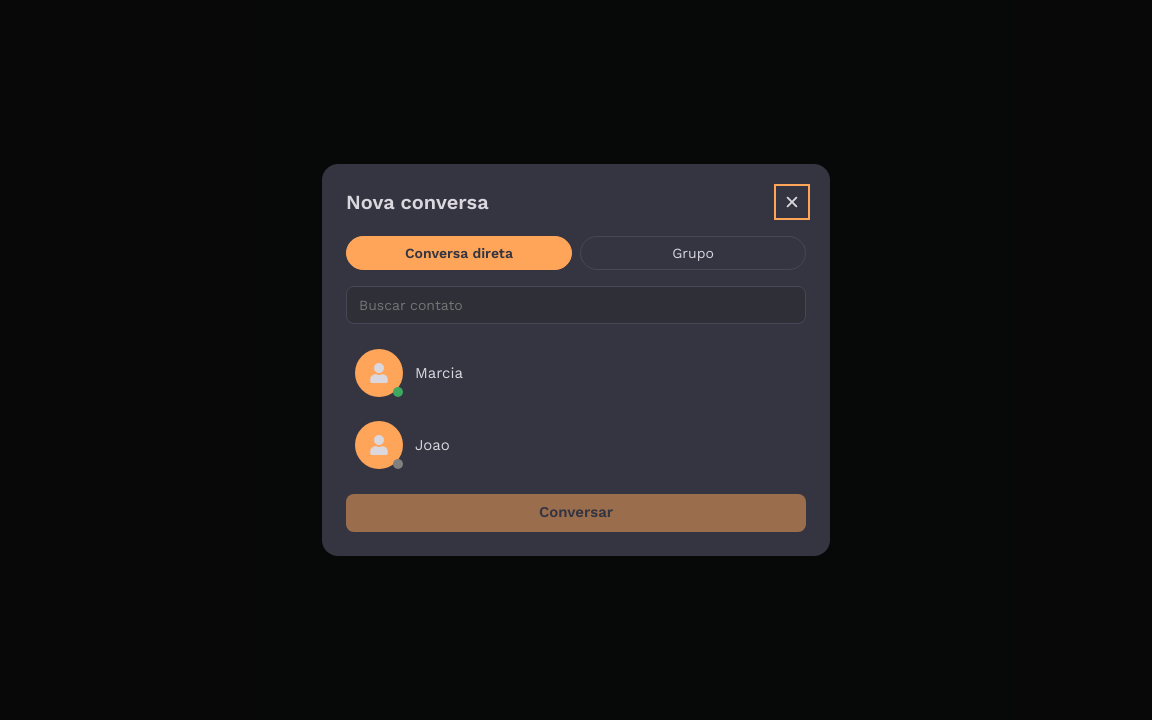
Test case: NewChatModal · criar grupo › a segunda etapa pede nome, foto e descricao
Step 1. Click the tab "Grupo" → (693, 253), box 580,236 -> 806,270
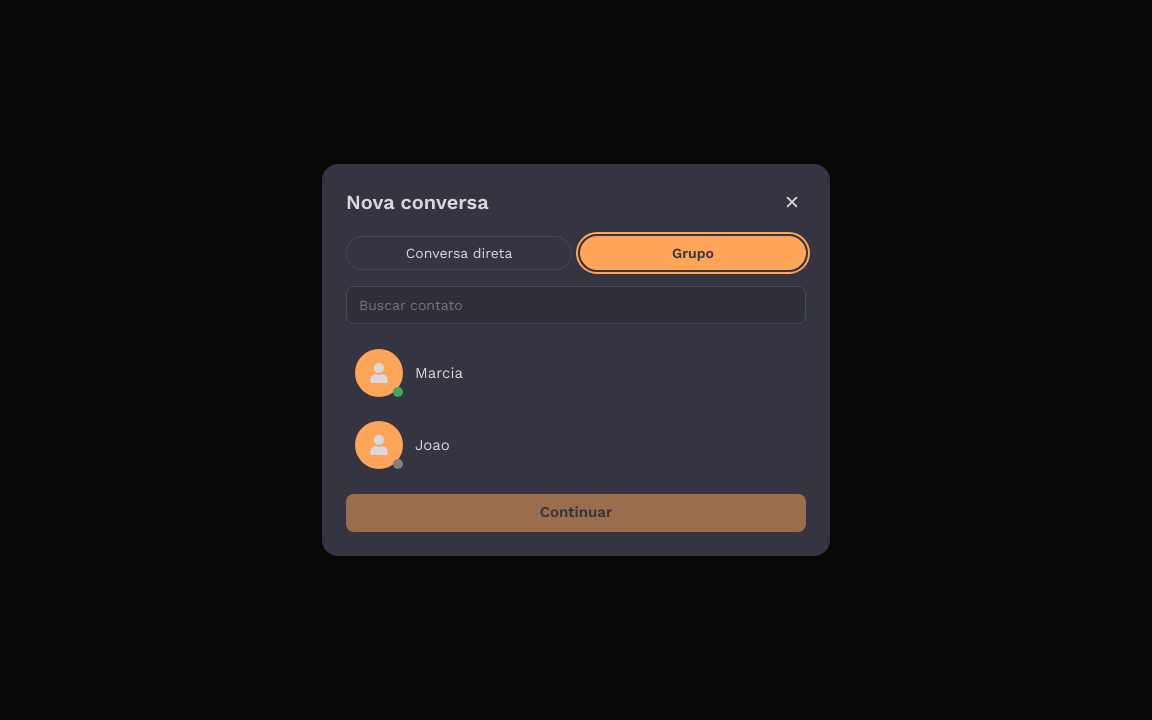
Step 2. Click the button "Marcia" → (379, 373), box 346,340 -> 806,406
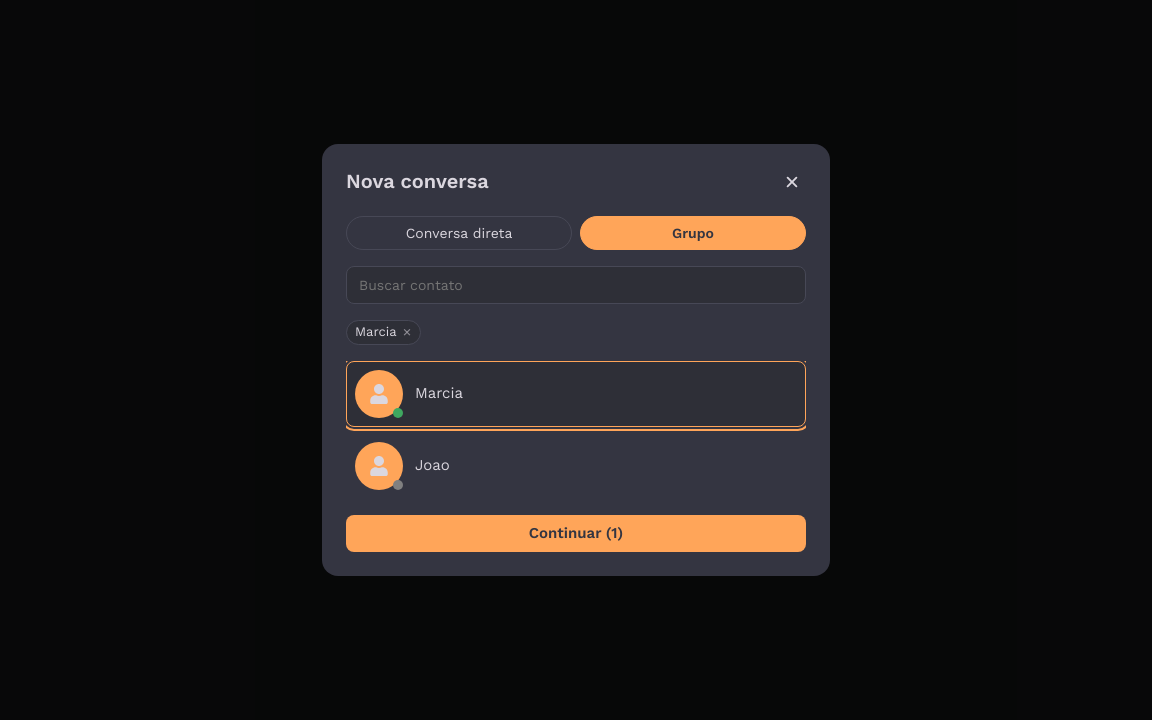
Step 3. Click the button "Continuar (1)" → (576, 534), box 346,515 -> 806,552
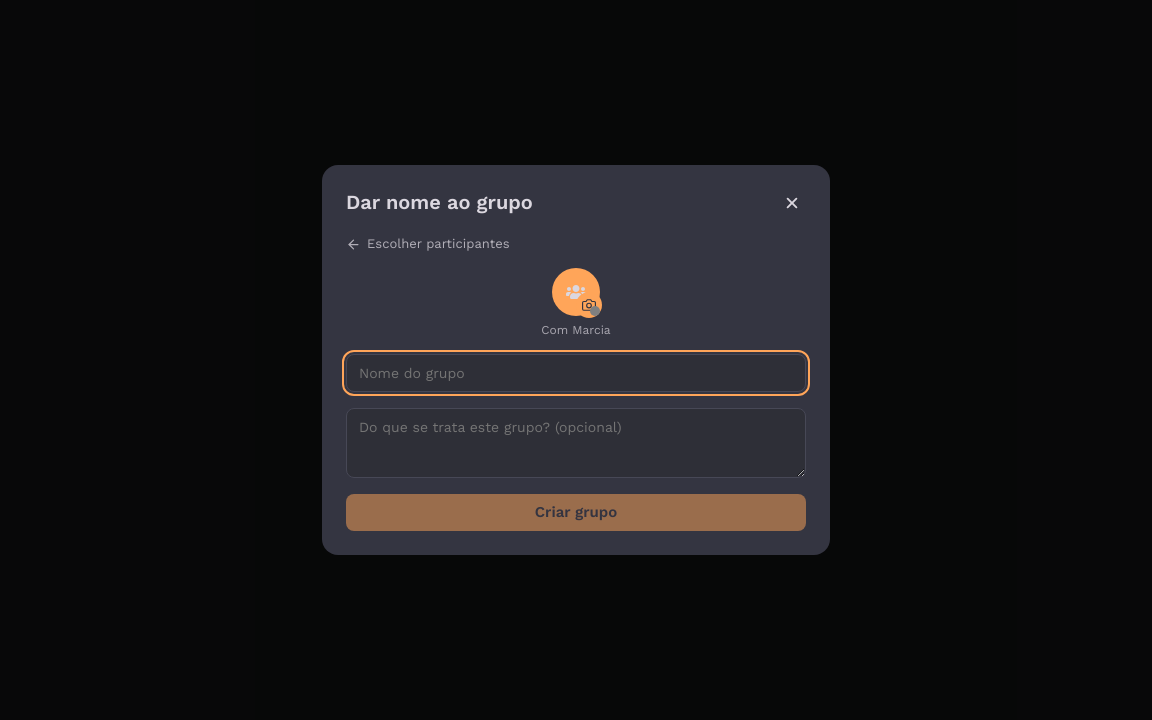
Now the field labelled "Nome do grupo" is shown, box 346,354 -> 806,392
Now the text box named "Descrição do grupo" is shown, box 346,408 -> 806,478
Now the button named "Escolher uma foto" is shown, box 576,292 -> 602,318
